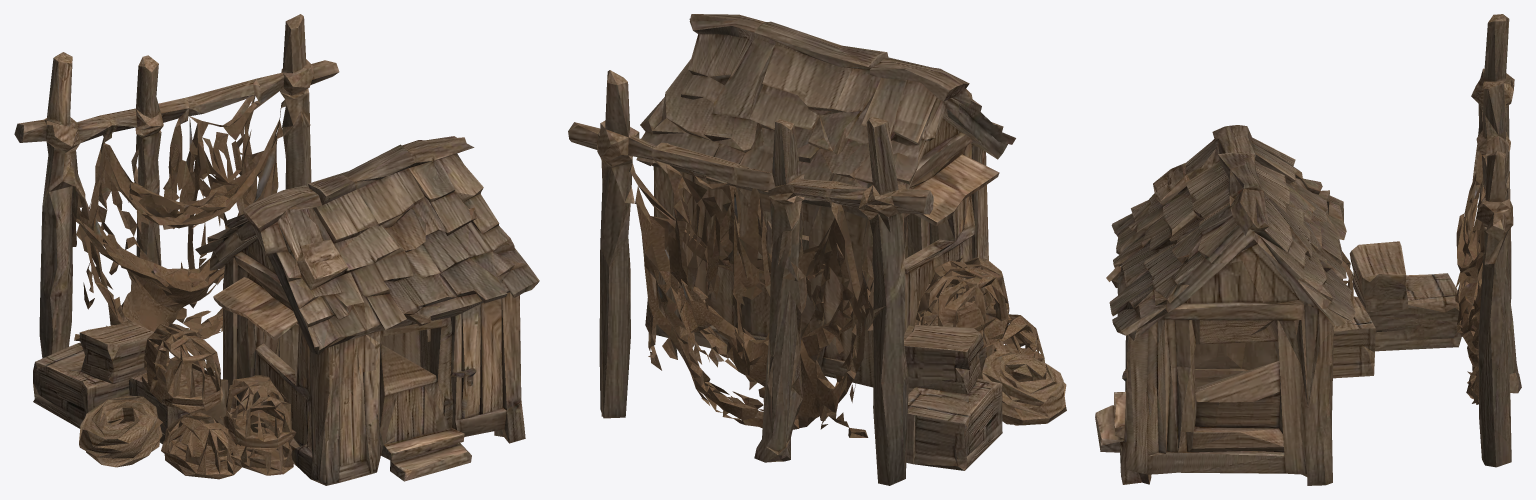
File: poi_fishhut.glb
The picture shows the model from 3 angles, left to right: view 1: azimuth 30°, elevation 25°; view 2: azimuth 150°, elevation 25°; view 3: azimuth 270°, elevation 25°; orthographic projection. The views are drawn at different scales.
Parts seen in each view (by area): view 1: poi_fishhut; view 2: poi_fishhut; view 3: poi_fishhut.
Boxes of the visible parts, left/top/right/bottom form: poi_fishhut: left=14, top=14, right=539, bottom=485; poi_fishhut: left=568, top=14, right=1066, bottom=485; poi_fishhut: left=1095, top=14, right=1521, bottom=485.
Bounding box in the file's own units: 10 × 8.35 × 9.81.
Materials: 1 (1 with a texture image).
